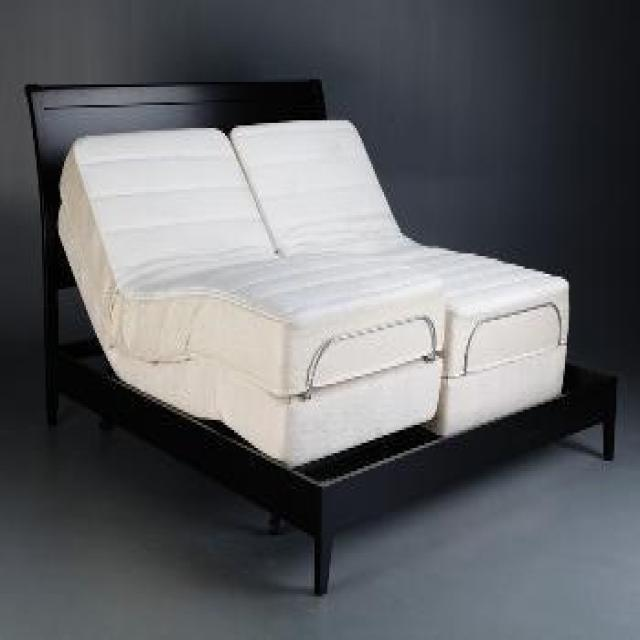bed: (24, 77, 616, 594)
